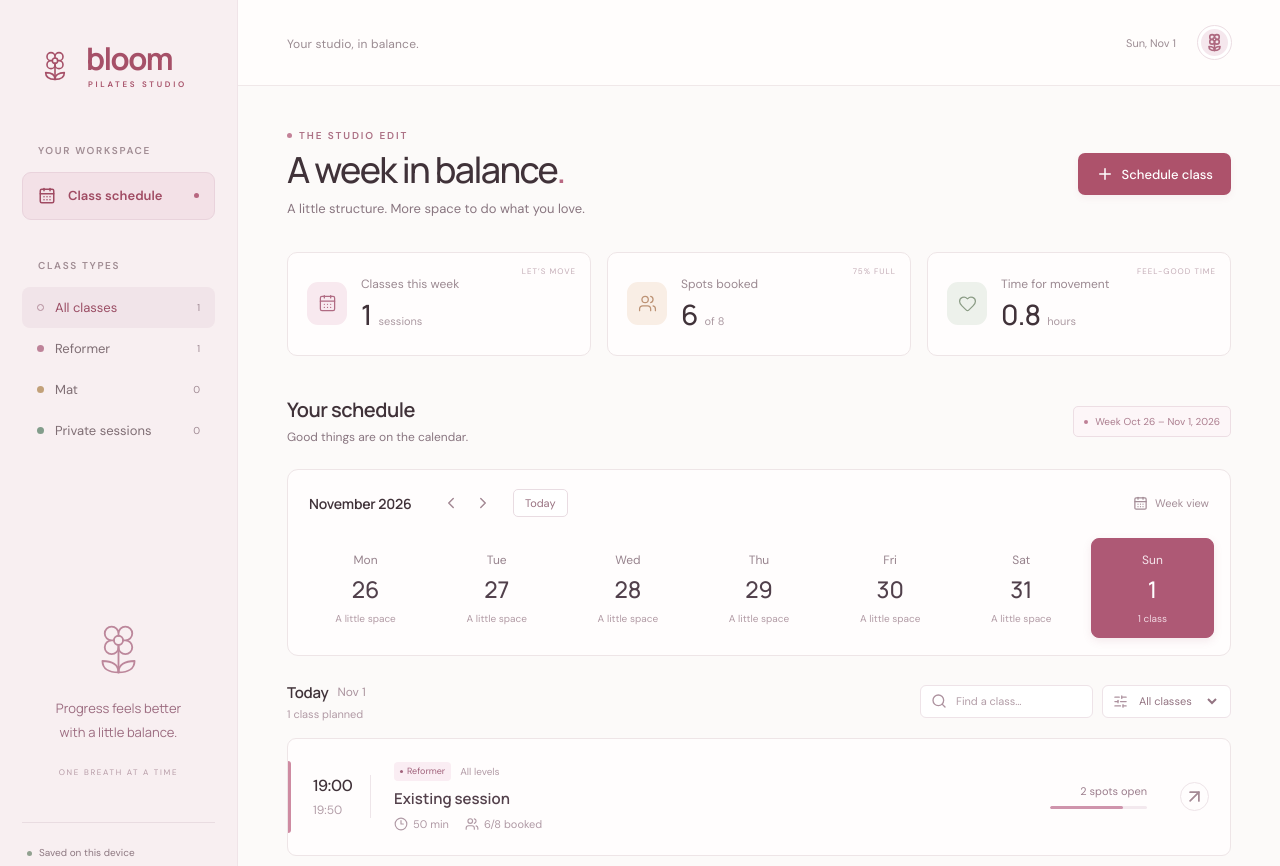
instructor workflows › prevents scheduling overlapping classes and overbooking
Click the button "Schedule class": {"x": 1154, "y": 174} [1078, 153, 1231, 195]
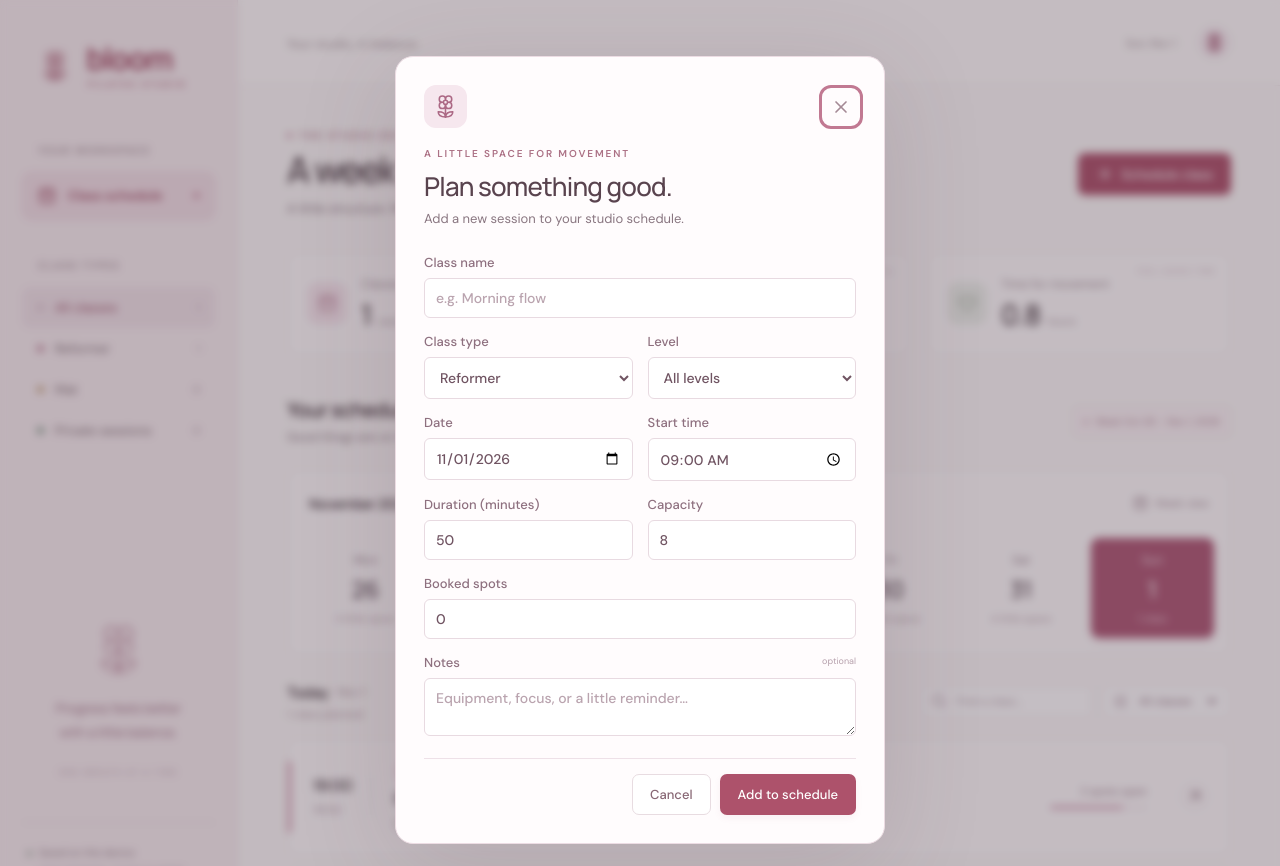
In the field labelled "Class name": {"x": 640, "y": 298} [424, 278, 856, 318], type "Sunset stretch"
Replace the text in the time field labelled "Start time" with "19:00": {"x": 752, "y": 460} [648, 438, 856, 481]
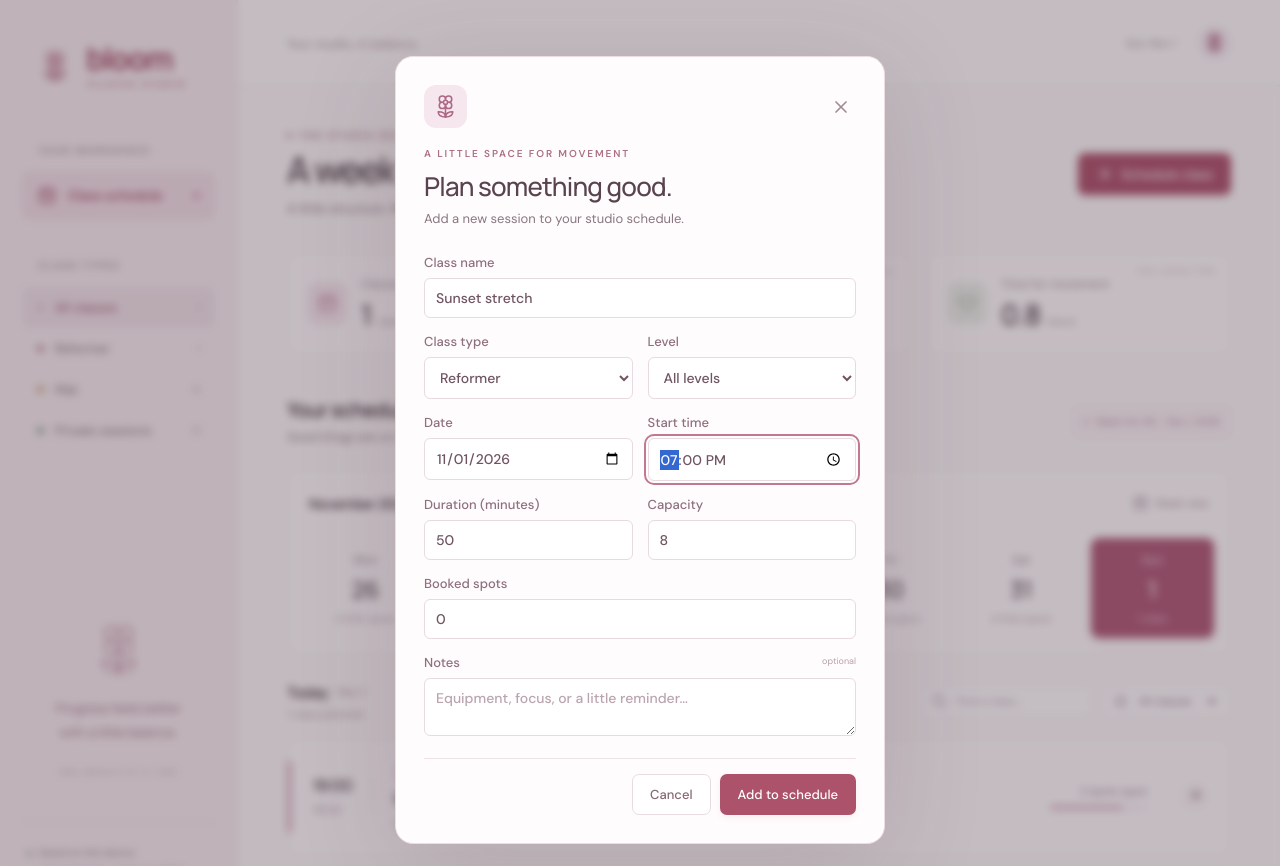
Click the button "Add to schedule": {"x": 788, "y": 794} [720, 774, 856, 815]
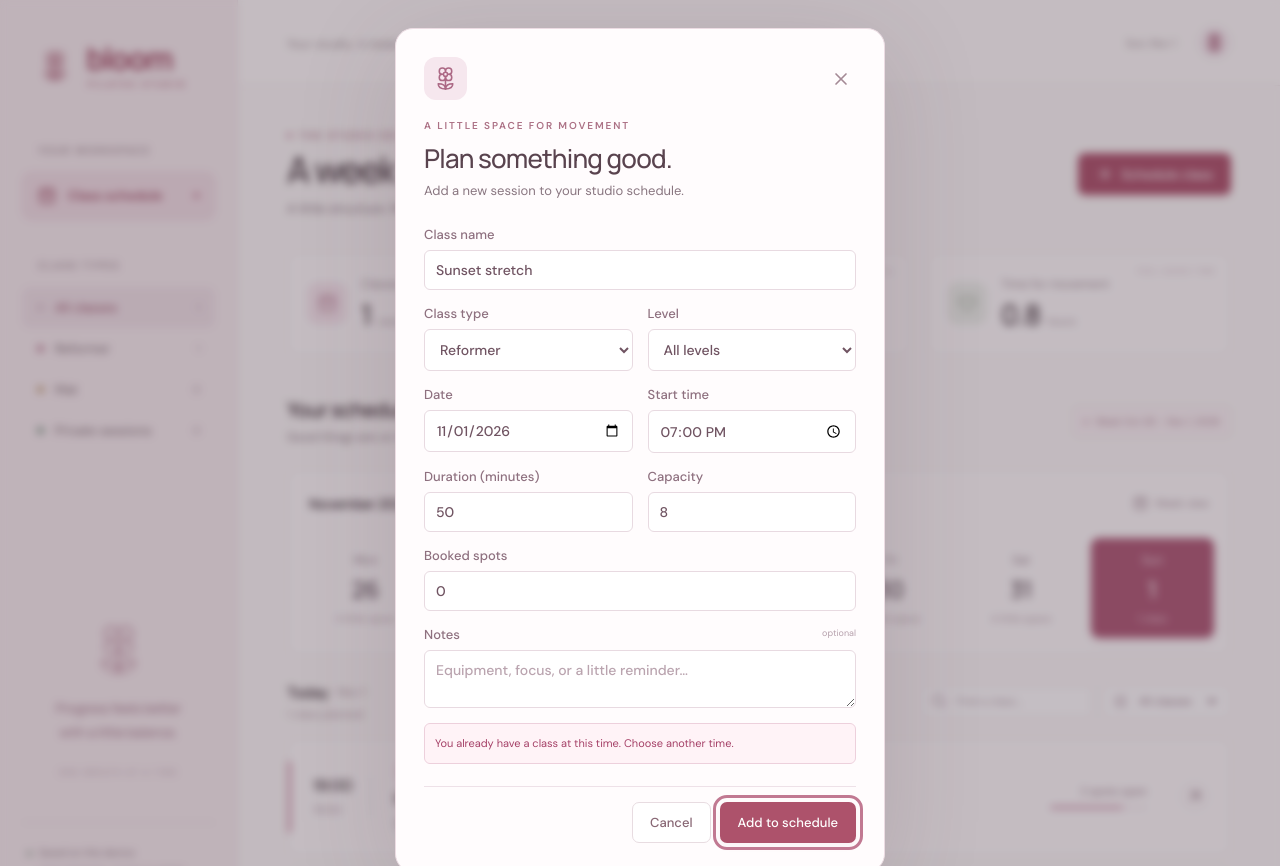
Check: the message shows "already have a class", box [435, 736, 734, 750]
Clear the number field labelled "Booked spots": {"x": 640, "y": 591} [424, 571, 856, 611]
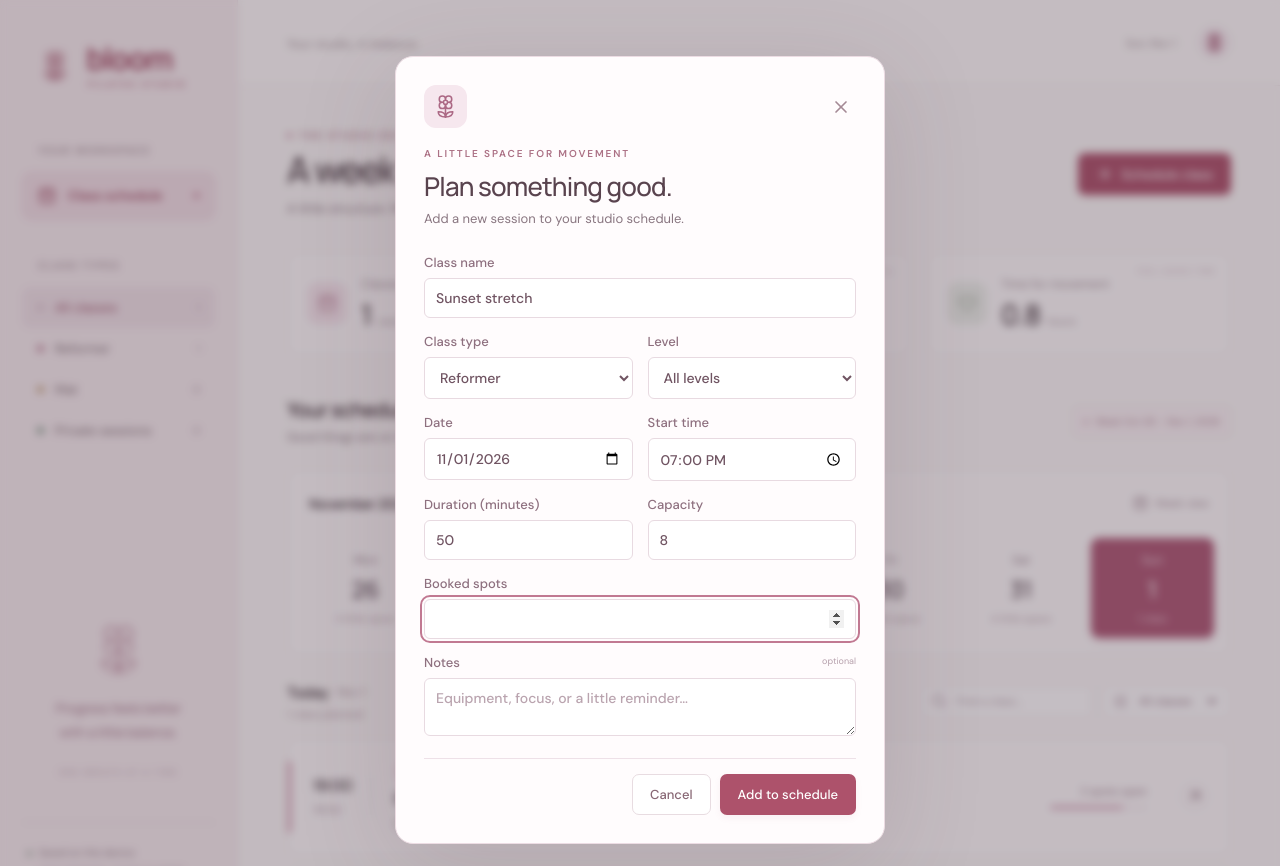
In the number field labelled "Booked spots": {"x": 640, "y": 619} [424, 599, 856, 639], type "9"
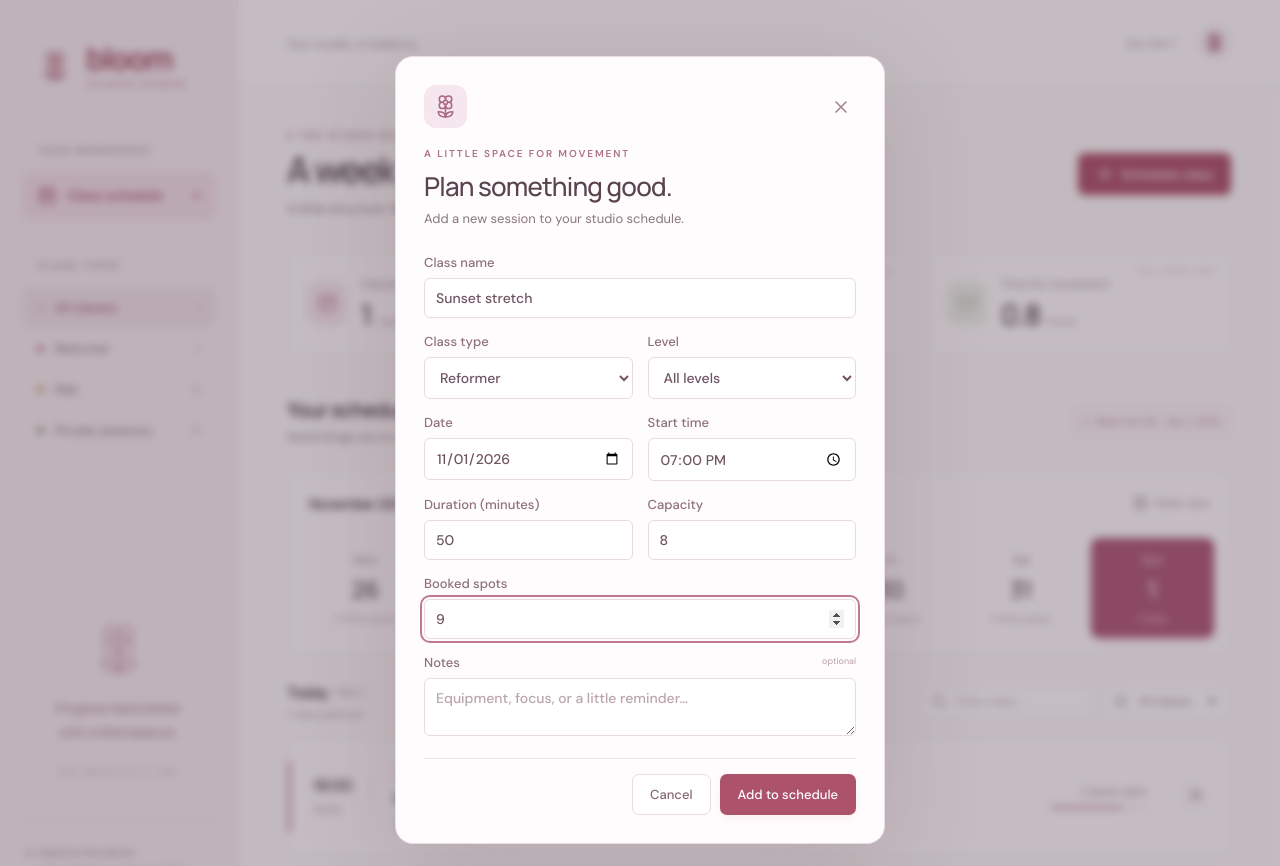
Click the button "Add to schedule": {"x": 788, "y": 794} [720, 774, 856, 815]
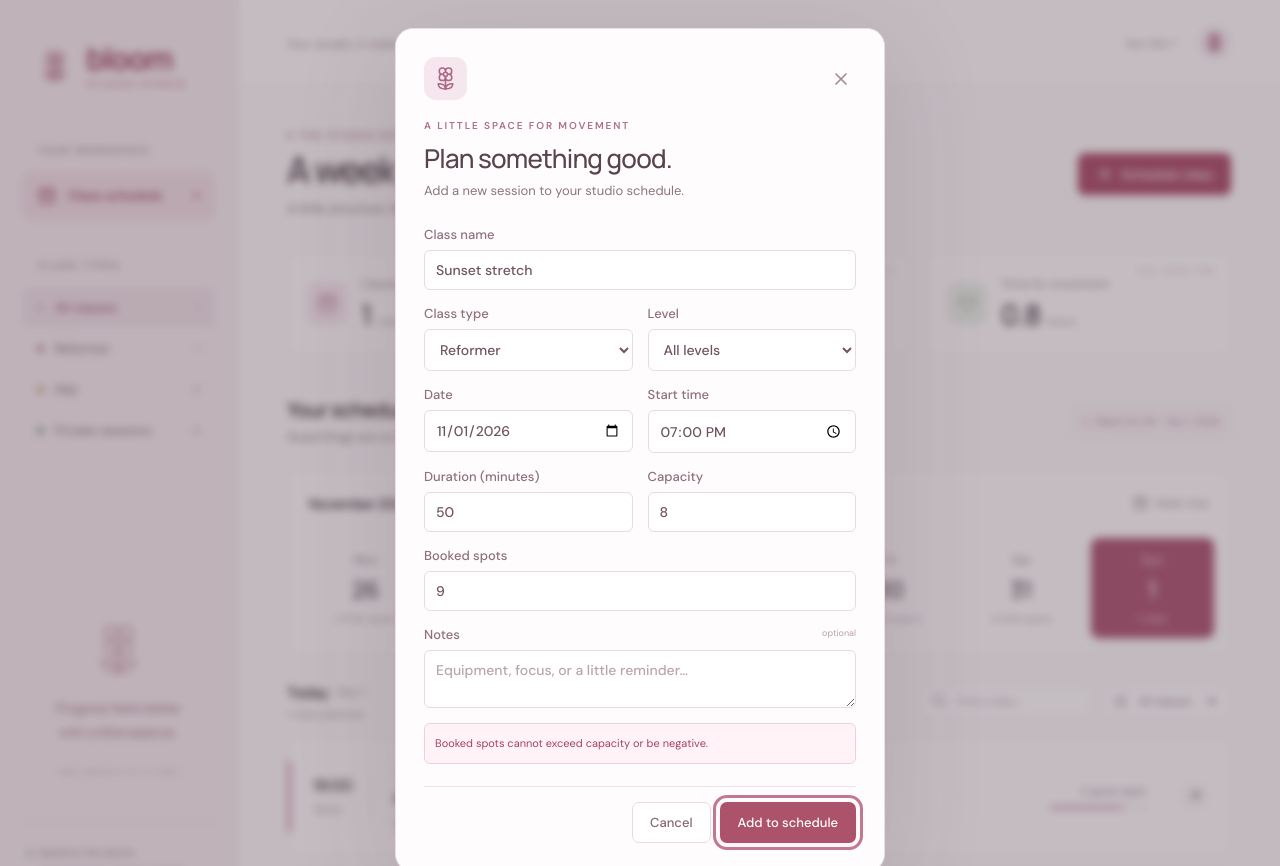
Check: the message shows "cannot exceed capacity", box [435, 736, 708, 750]
